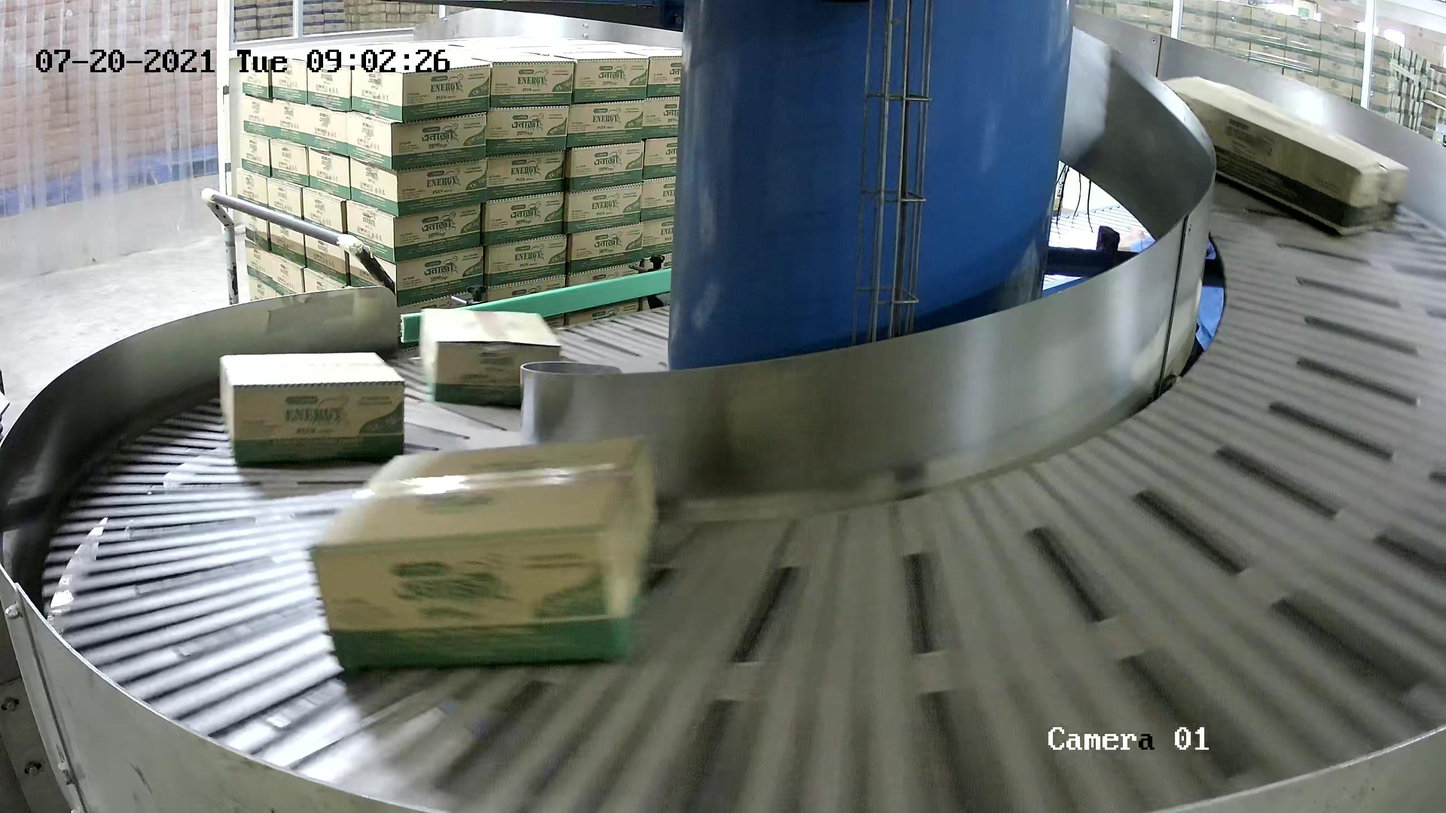Box: (304, 431, 657, 671), (1158, 75, 1410, 236), (218, 351, 406, 463), (418, 306, 562, 406)
